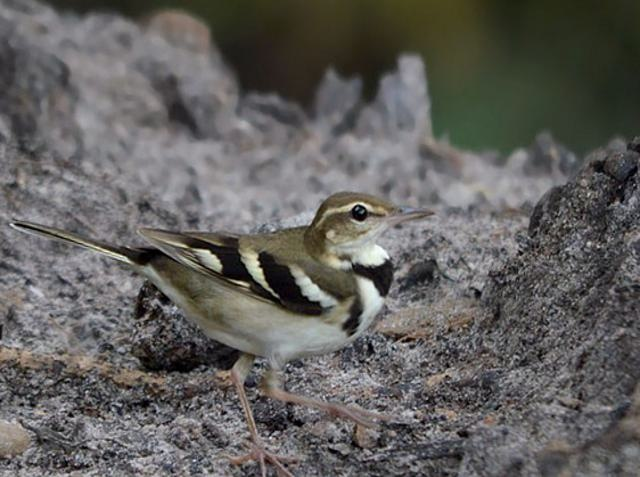wagtail: (107, 191, 461, 424)
